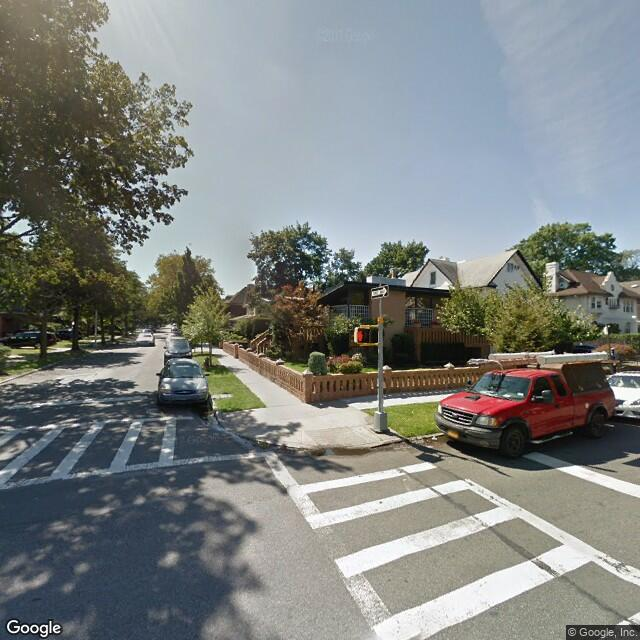litter: (433, 437, 441, 440)
